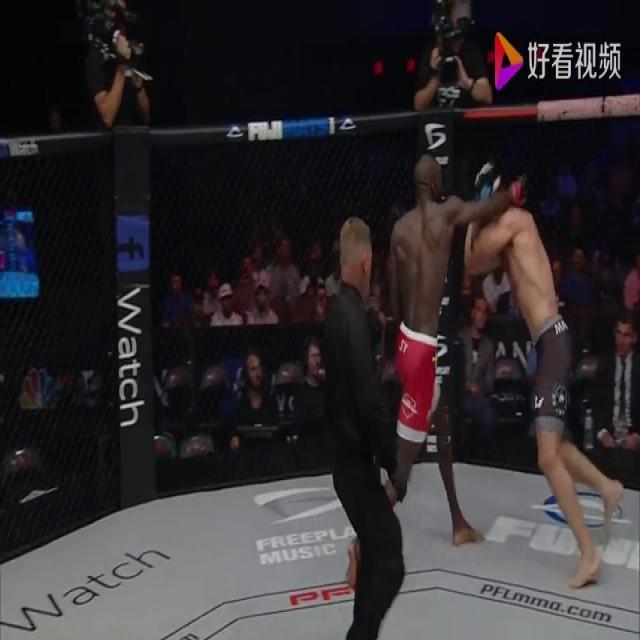fight: (384, 151, 624, 591)
non-fight: (326, 213, 408, 640), (413, 2, 493, 112), (82, 0, 148, 131), (227, 348, 275, 452), (293, 338, 327, 427)
